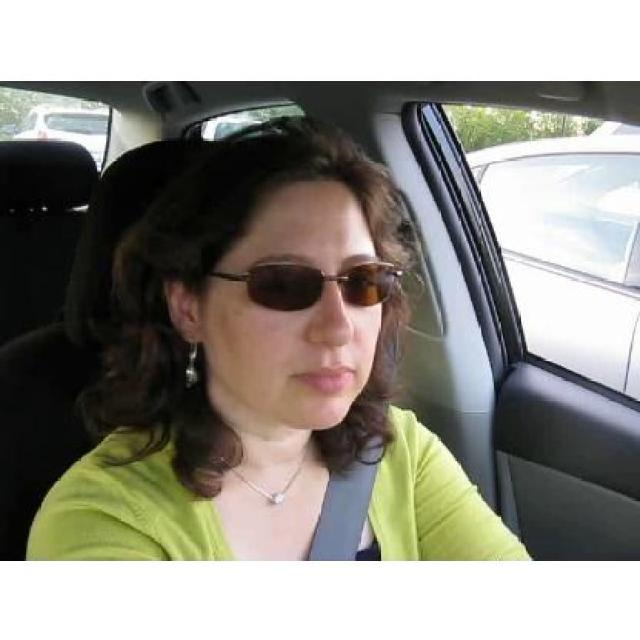attentif: (164, 123, 399, 431)
